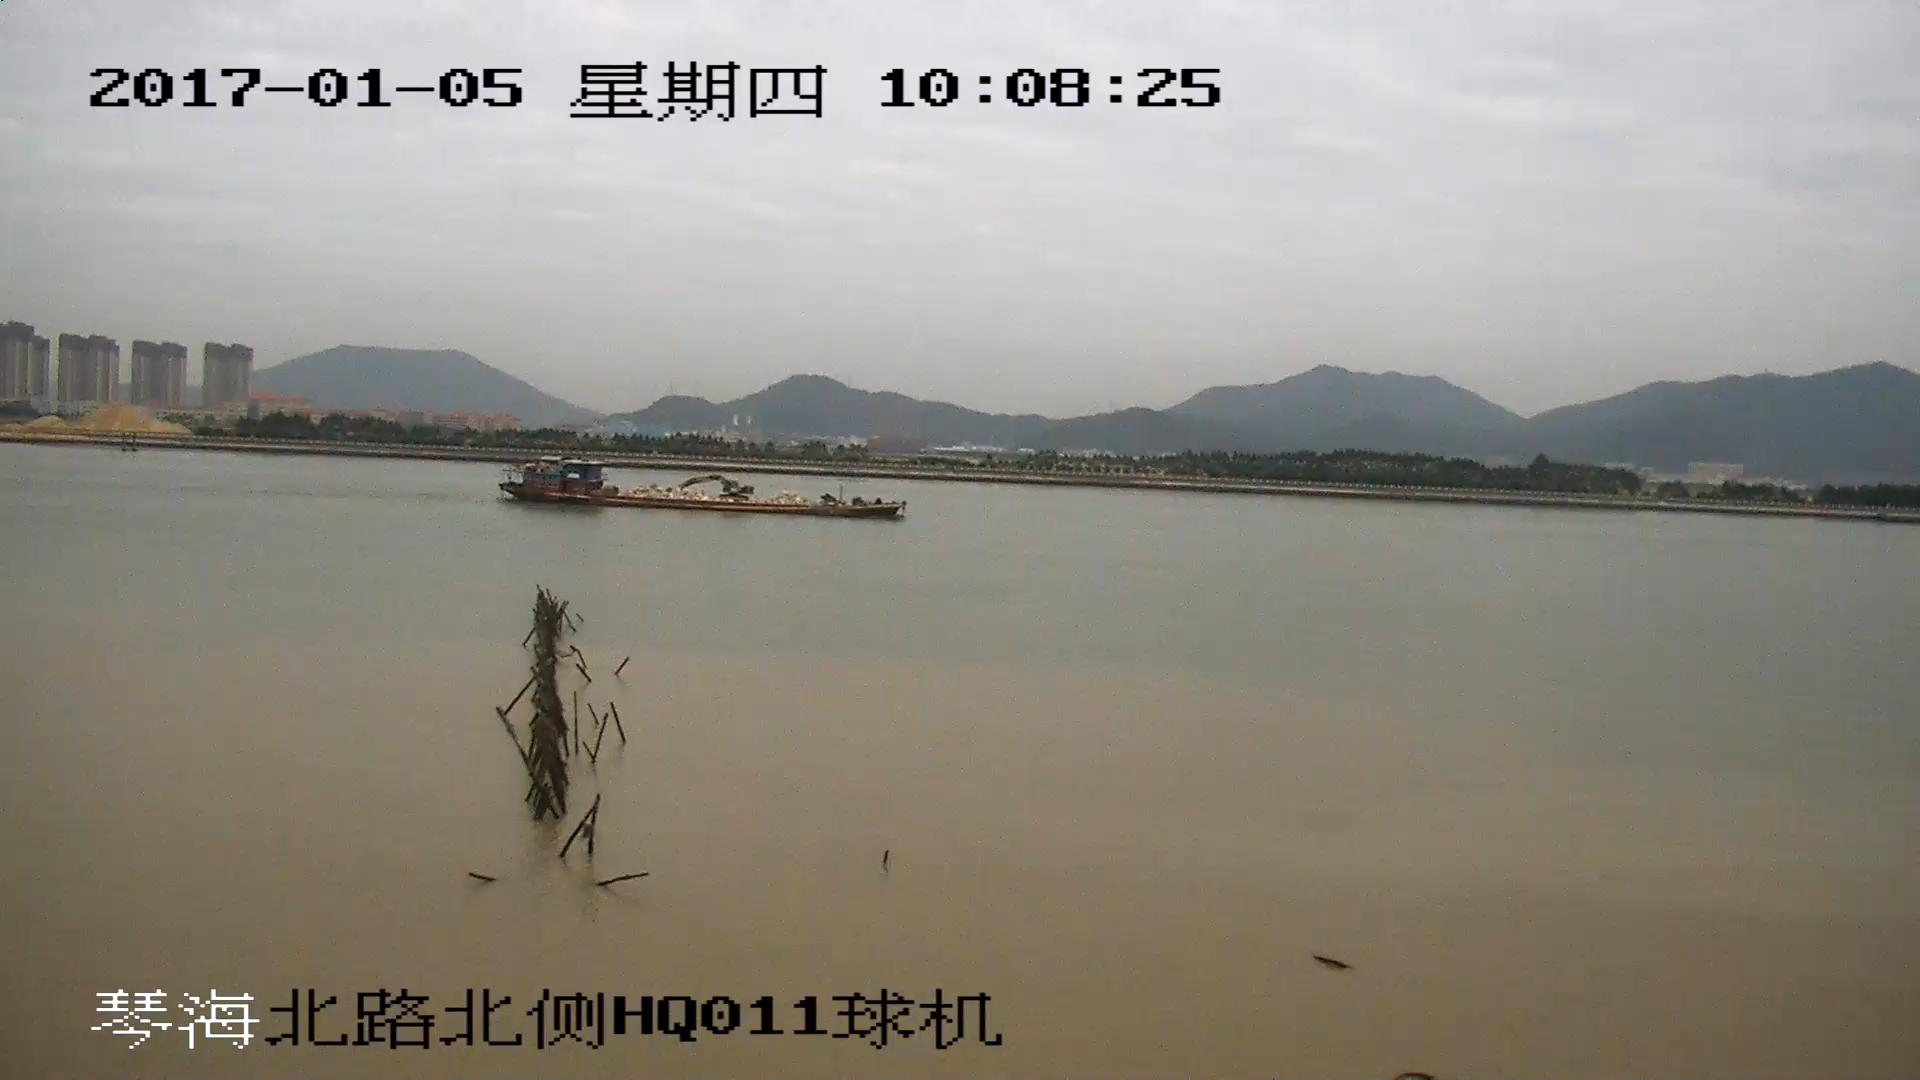bulk cargo carrier: (500, 457, 907, 516)
